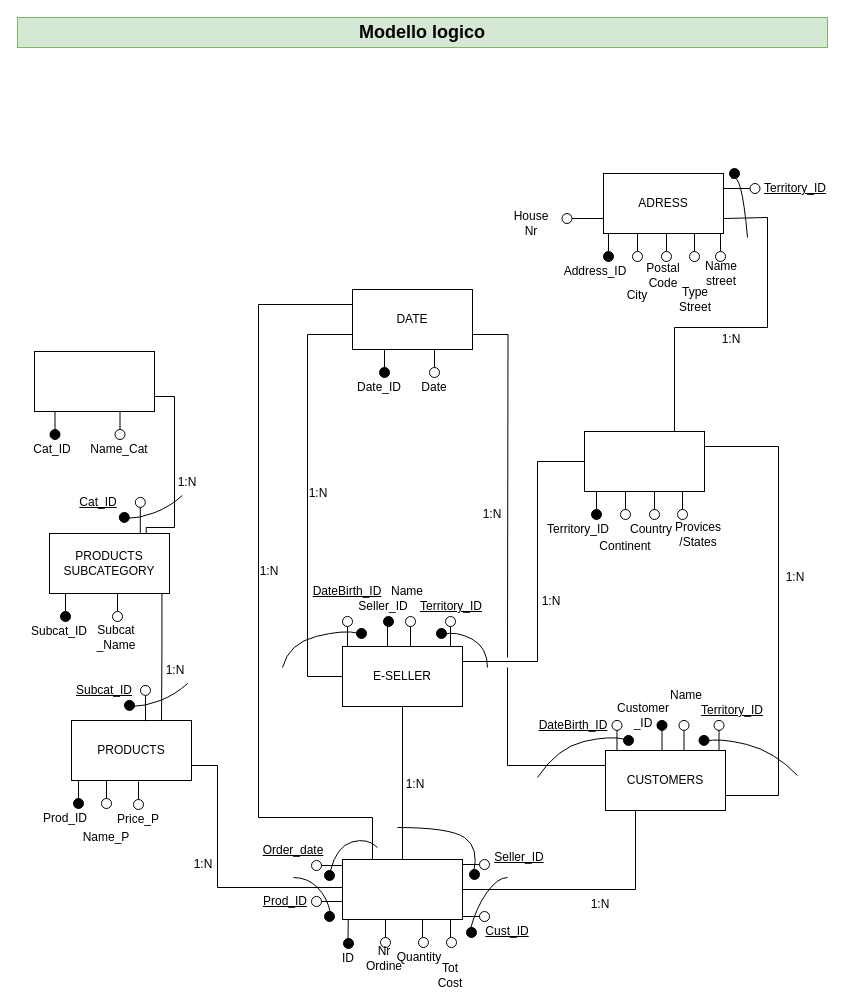
This 845x1007 diagram has some shape labels left out. The shapes that lost their labels are listed below. From the top down, each one's centre as x and y in pixels, then its label:
At (x=94, y=381): "PRODUCTS CATEGORY".
At (x=644, y=461): "TERRITORY".
At (x=402, y=889): "SALES".
